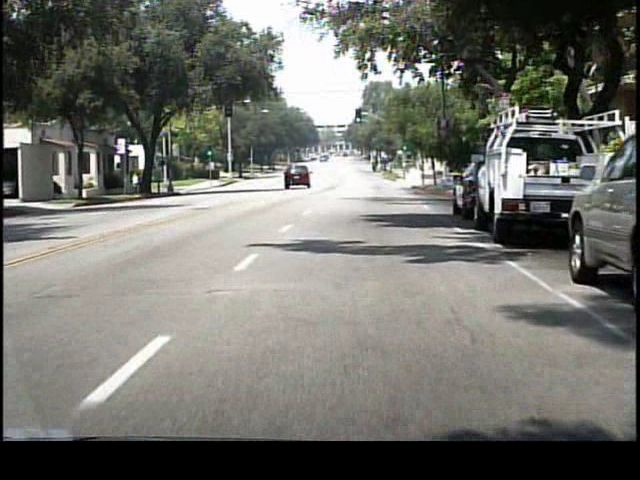person: (134, 170, 141, 195)
